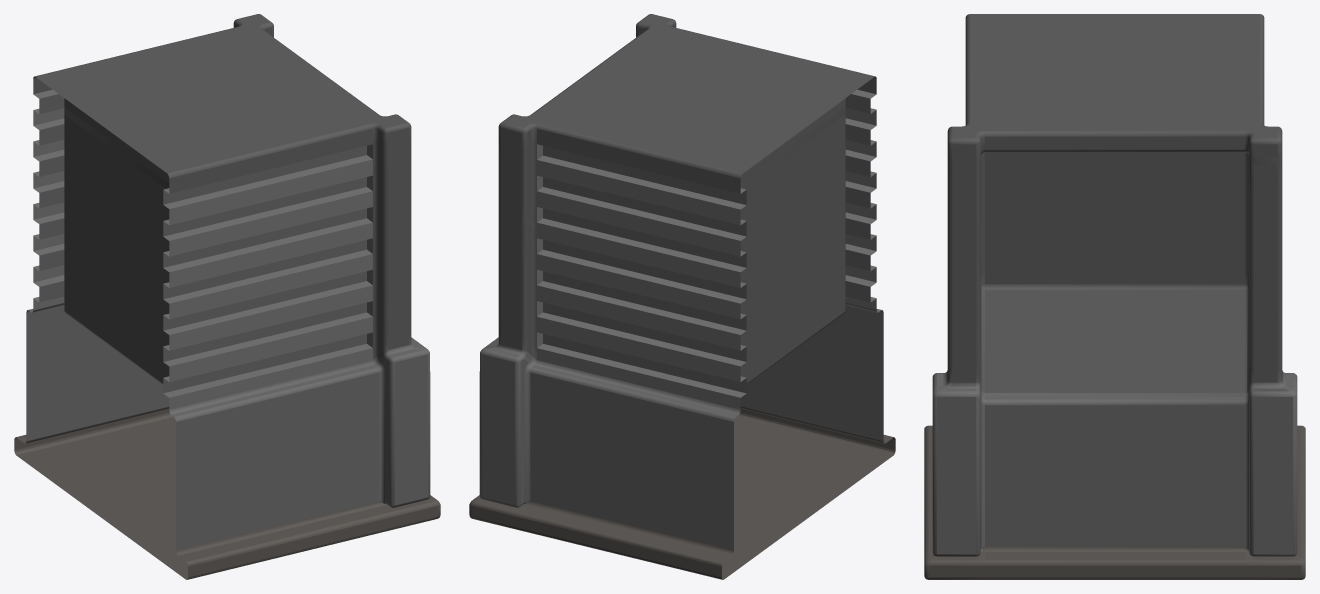
The model's file is SM_Machine.fbx.
3 renders of one model, left to right at view 1: azimuth 30°, elevation 25°; view 2: azimuth 150°, elevation 25°; view 3: azimuth 270°, elevation 25°, orthographic. The views are drawn at different scales.
Visible parts, largest first — view 1: Cube; view 2: Cube; view 3: Cube.
Part boxes in pixels (x1=…): Cube: x1=14, y1=14, x2=440, y2=579; Cube: x1=469, y1=14, x2=895, y2=579; Cube: x1=924, y1=14, x2=1305, y2=579.
Size of the model in its own units: 95.8 by 141 by 113.
